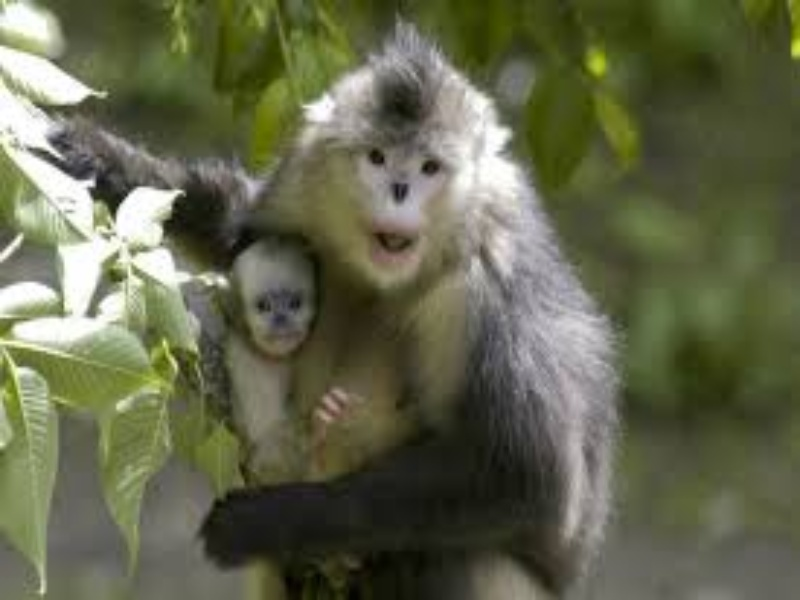monkey: (35, 37, 632, 589)
